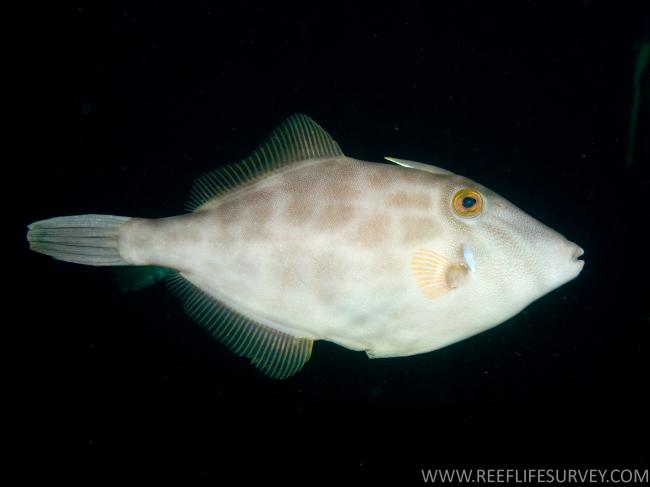fish: (26, 115, 584, 380)
